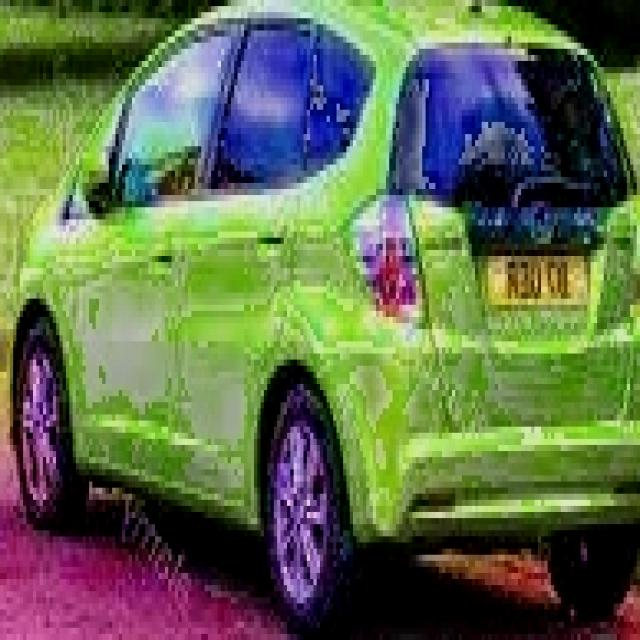green: (10, 0, 640, 634)
